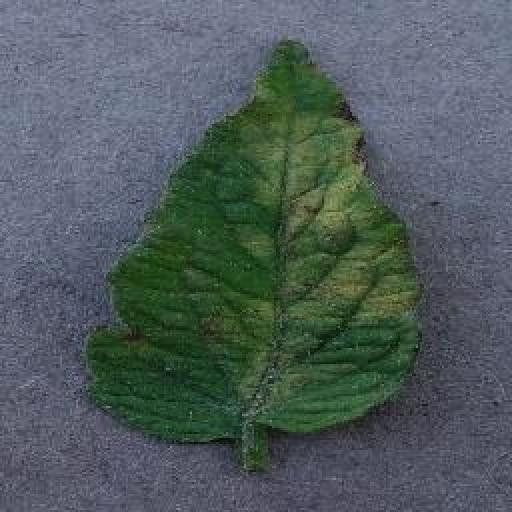disease_tomato: (84, 34, 426, 446)
